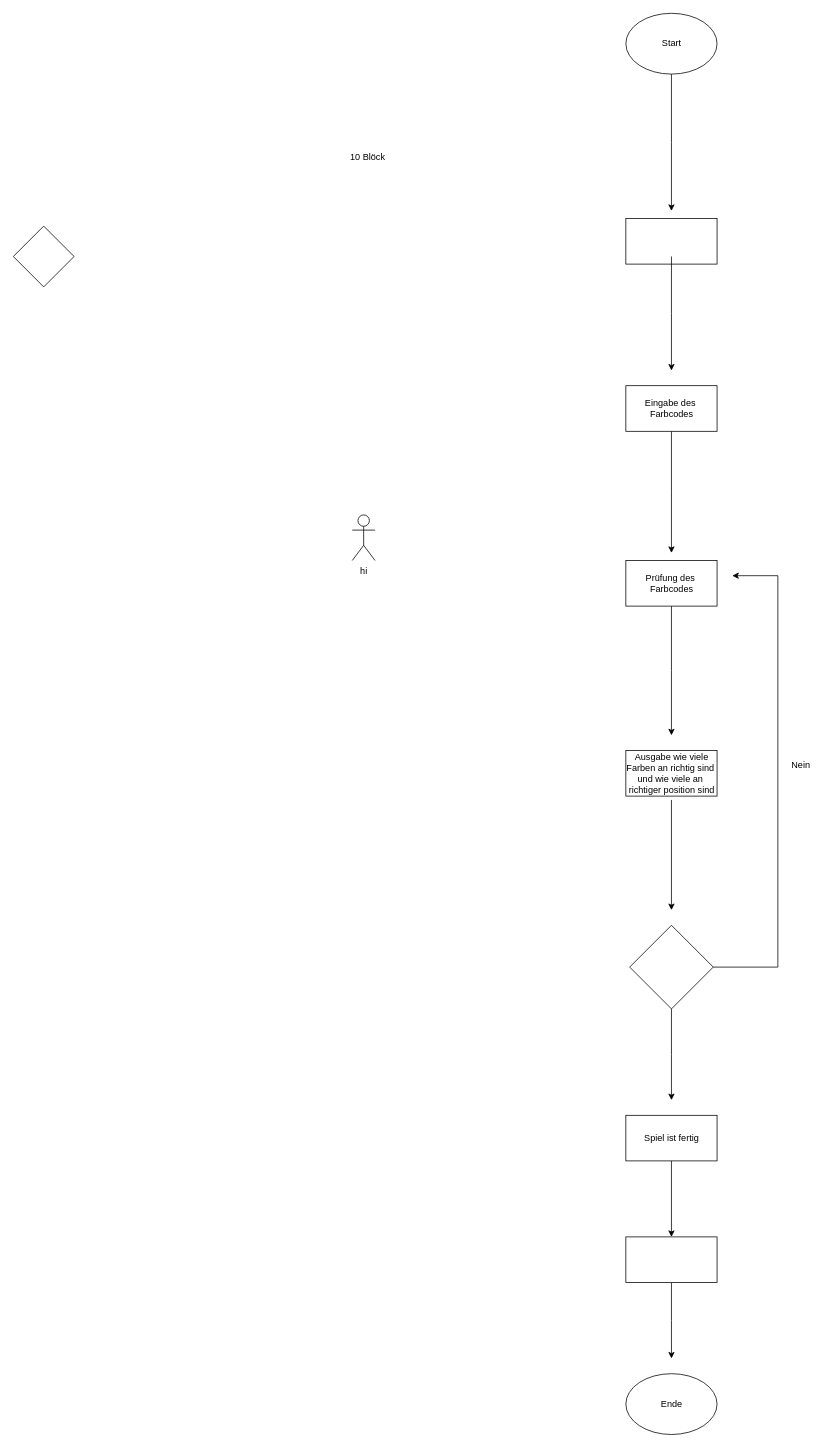
Some shapes in this 833 by 1448 pixel diagram are drawn without their labels. The shapes that lost their labels are listed below. From the top down, each one's centre as x and y in pixels, then its label:
At (x=671, y=241): "Farbcode generieren".
At (x=671, y=967): "Ist der Farbcode korrekt?".
At (x=671, y=1259): "Farbcode wird aufgedeckt".
